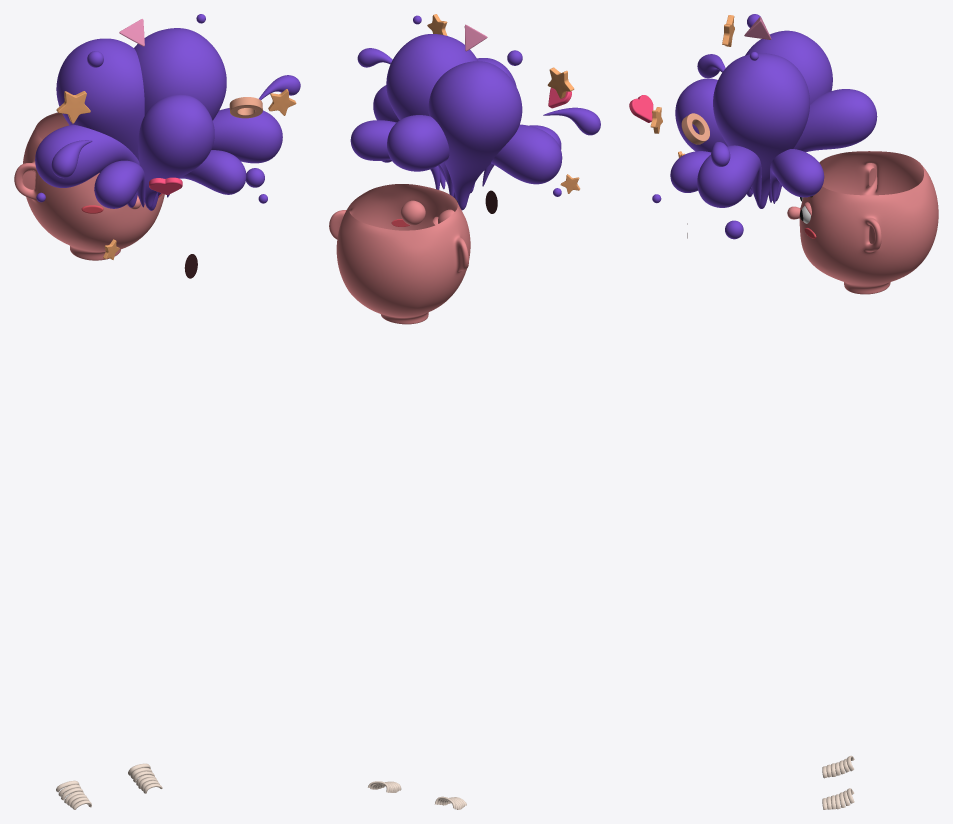
3 views of the same model, side by side, from view 1: azimuth 30°, elevation 25°; view 2: azimuth 150°, elevation 25°; view 3: azimuth 270°, elevation 25° (orthographic). The views are drawn at different scales.
Visible parts, largest first — view 1: Cube.008, Cube.009, NurbsPath.001, Cube.004, Sphere.001, Circle.003, Star, Cube.005; view 2: Cube.008, Cube.009, Cube.004, Cube.010, NurbsPath.001; view 3: Cube.008, Cube.009, NurbsPath.001, Circle.003.
Boxes of the visible parts, <box> form: Cube.008: <box>35,28,282,210</box>; Cube.009: <box>14,112,164,260</box>; NurbsPath.001: <box>56,763,162,809</box>; Cube.004: <box>51,140,92,178</box>; Sphere.001: <box>36,14,267,203</box>; Circle.003: <box>229,97,262,118</box>; Star: <box>56,91,90,123</box>; Cube.005: <box>259,75,300,99</box>; Cube.008: <box>350,34,562,210</box>; Cube.009: <box>329,184,470,324</box>; Cube.004: <box>543,107,600,135</box>; Cube.010: <box>400,200,454,225</box>; NurbsPath.001: <box>368,781,466,809</box>; Cube.008: <box>670,30,877,208</box>; Cube.009: <box>787,151,938,294</box>; NurbsPath.001: <box>822,755,854,809</box>; Circle.003: <box>681,113,709,144</box>.
Size of the model in its own units: 3.3 by 10.09 by 3.69.
